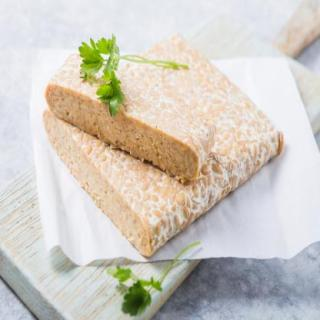Tempe: (41, 31, 286, 257)
